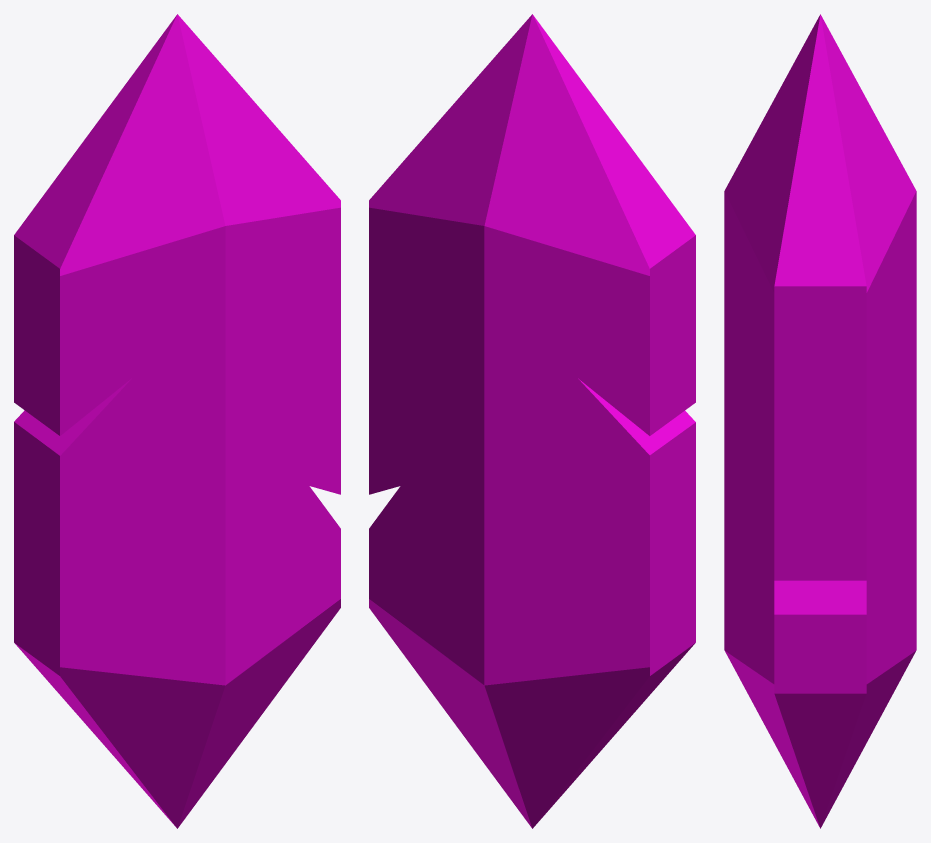
File: CristalLight1.fbx
The picture shows the model from 3 angles, left to right: view 1: azimuth 30°, elevation 25°; view 2: azimuth 150°, elevation 25°; view 3: azimuth 270°, elevation 25°; orthographic projection.
Parts seen in each view (by area): view 1: CristalLight1; view 2: CristalLight1; view 3: CristalLight1.
Part boxes in pixels (x1,y1,x2,y2): CristalLight1: (14, 14, 340, 828); CristalLight1: (369, 14, 695, 828); CristalLight1: (724, 14, 916, 828).
Bounding box in the file's own units: 572 × 1586 × 339.
